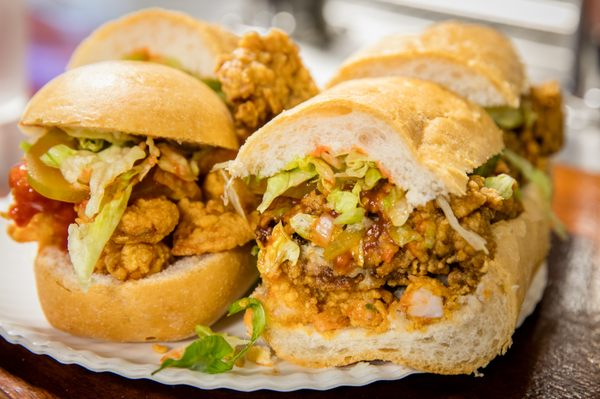soup: (220, 74, 560, 379), (1, 61, 259, 342), (66, 7, 321, 148), (325, 19, 565, 168)
